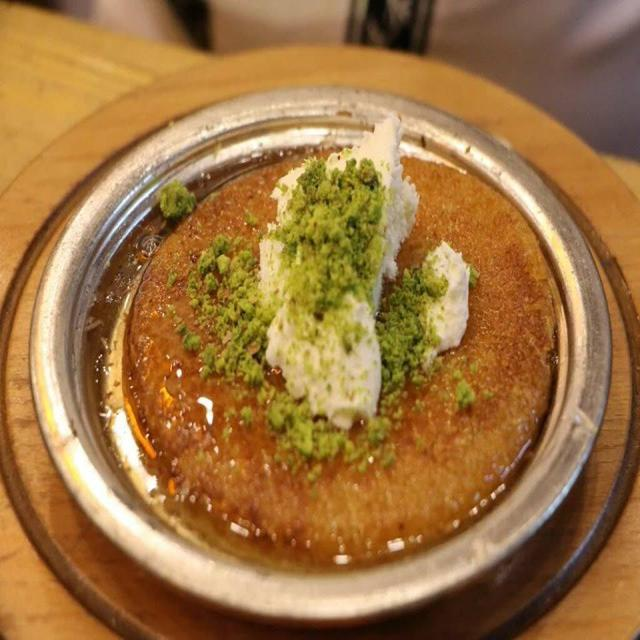konafa: (124, 119, 558, 562)
